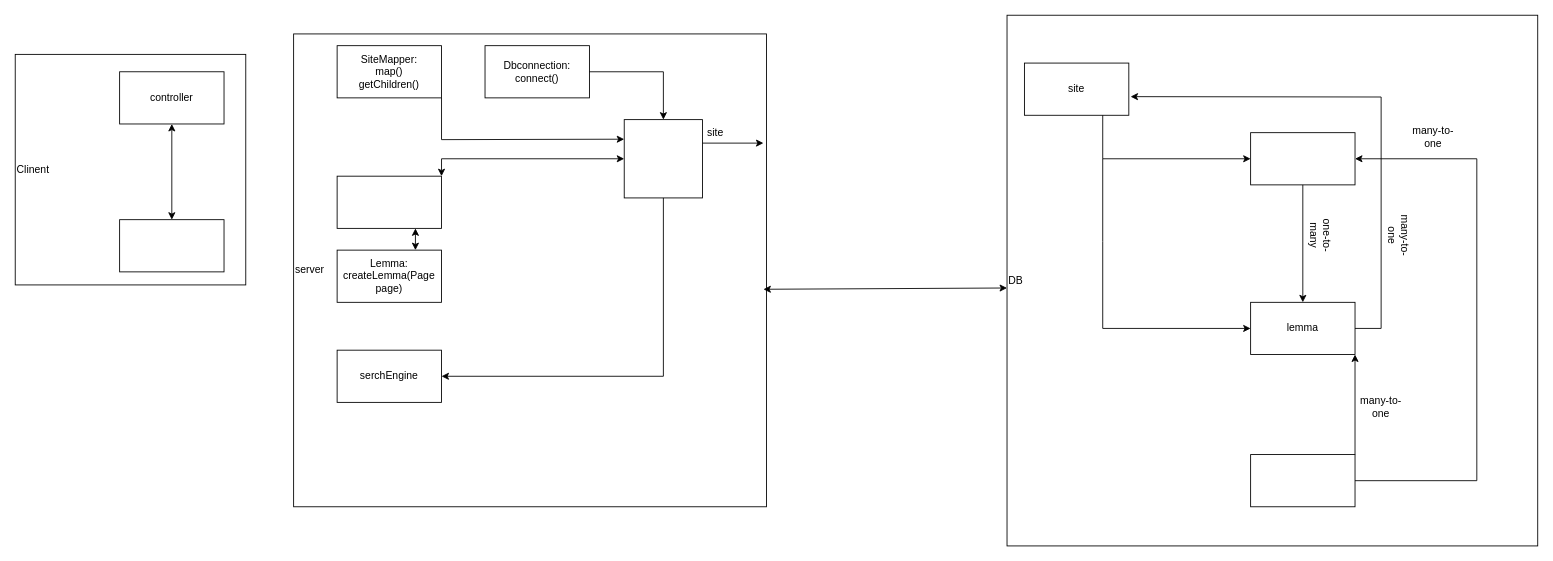
This 1553x561 diagram has some shape labels left out. Each missing label, with the centre of its shape:
"DBinterfase: Put(object o) Get(object o) Update(object o) Delete(object o)" goes at pixel 663 158.
"Indexation: indexPage(Page page)" goes at pixel 389 201.
"indexList" goes at pixel 1302 480.
"Page" goes at pixel 1302 158.
"view" goes at pixel 171 245.
